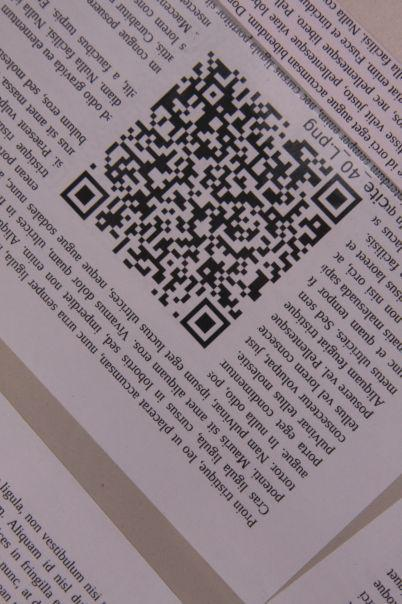Finder pattern: (305, 172, 366, 227), (179, 295, 234, 351), (59, 169, 111, 223)
